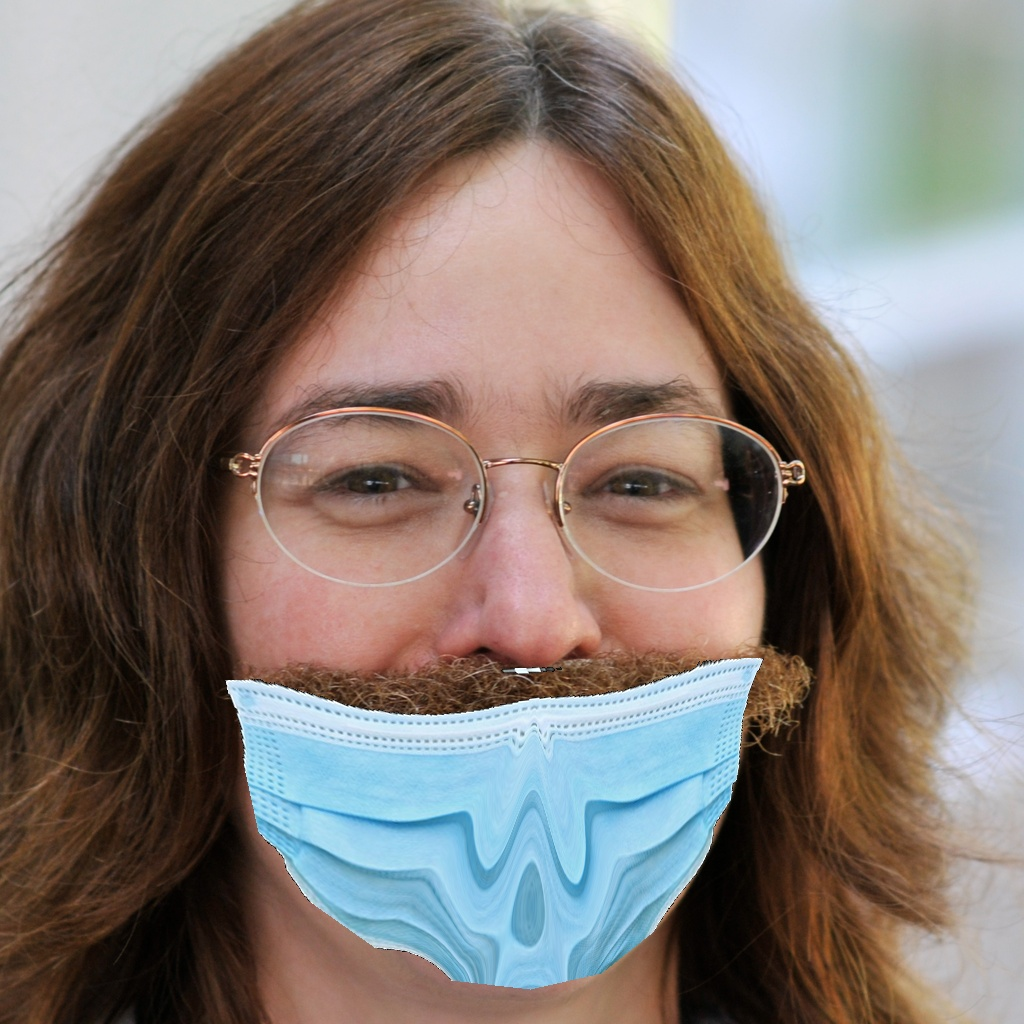mascarilla_mal_puesta: (38, 305, 866, 1005)
